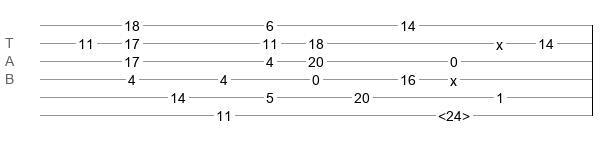0: (312, 72, 320, 82), (450, 54, 458, 64)
1: (496, 90, 504, 100)
11: (78, 36, 94, 46), (216, 108, 232, 118), (262, 36, 278, 46)
14: (170, 90, 186, 100), (400, 18, 416, 28), (538, 36, 554, 46)
16: (400, 72, 416, 82)
17: (124, 36, 140, 46), (124, 54, 140, 64)
18: (124, 18, 140, 28), (308, 36, 324, 46)
20: (308, 54, 324, 64), (354, 90, 370, 100)
4: (128, 72, 136, 82), (220, 72, 228, 82), (266, 54, 274, 64)
5: (266, 90, 274, 100)
6: (266, 18, 274, 28)
harmonic: (438, 108, 470, 118)
x: (450, 73, 457, 81), (496, 37, 503, 45)
